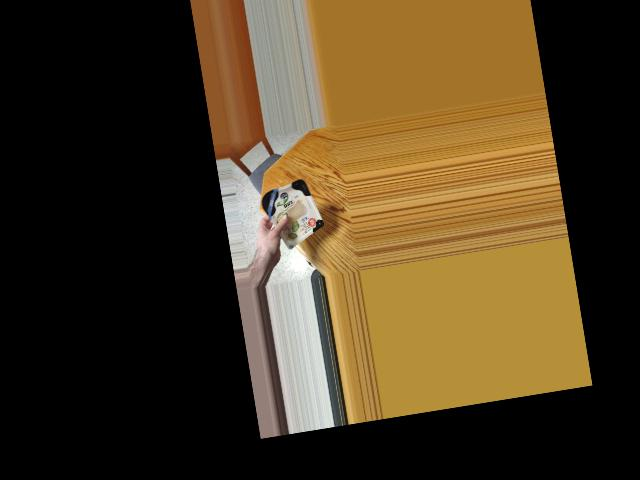cheese: (256, 175, 324, 242)
